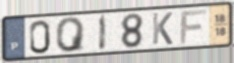0: (28, 18, 53, 55)
8: (119, 12, 145, 50)
F: (179, 8, 208, 46)
I: (98, 13, 109, 52)
K: (151, 11, 174, 46)
Q: (55, 16, 88, 54)
